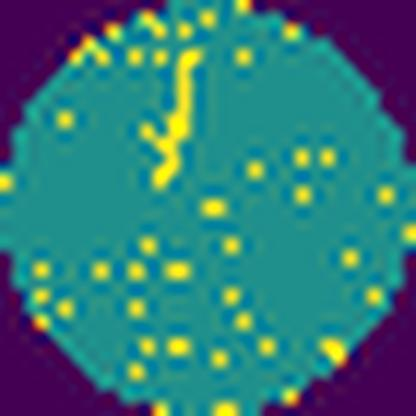Scratch: (134, 43, 208, 199)
